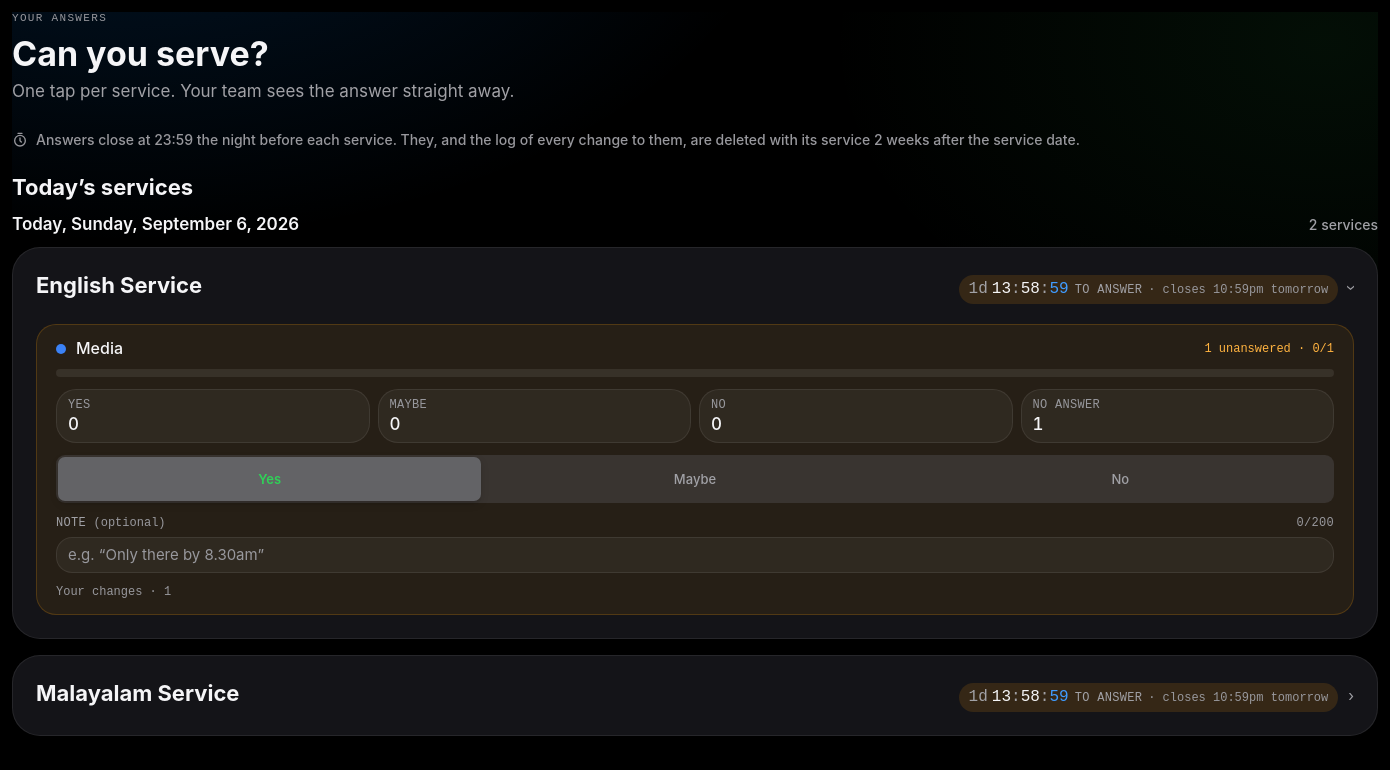
Test: the history of somebody’s answer › shows somebody their own changes once the church allows their own
The width and height of the screenshot is (1390, 770).
What coordinates should you click on to do the following:
click the button "Your changes · 1"
I would click on:
 (114, 592)
Its box is x1=56 y1=584 x2=171 y2=600.
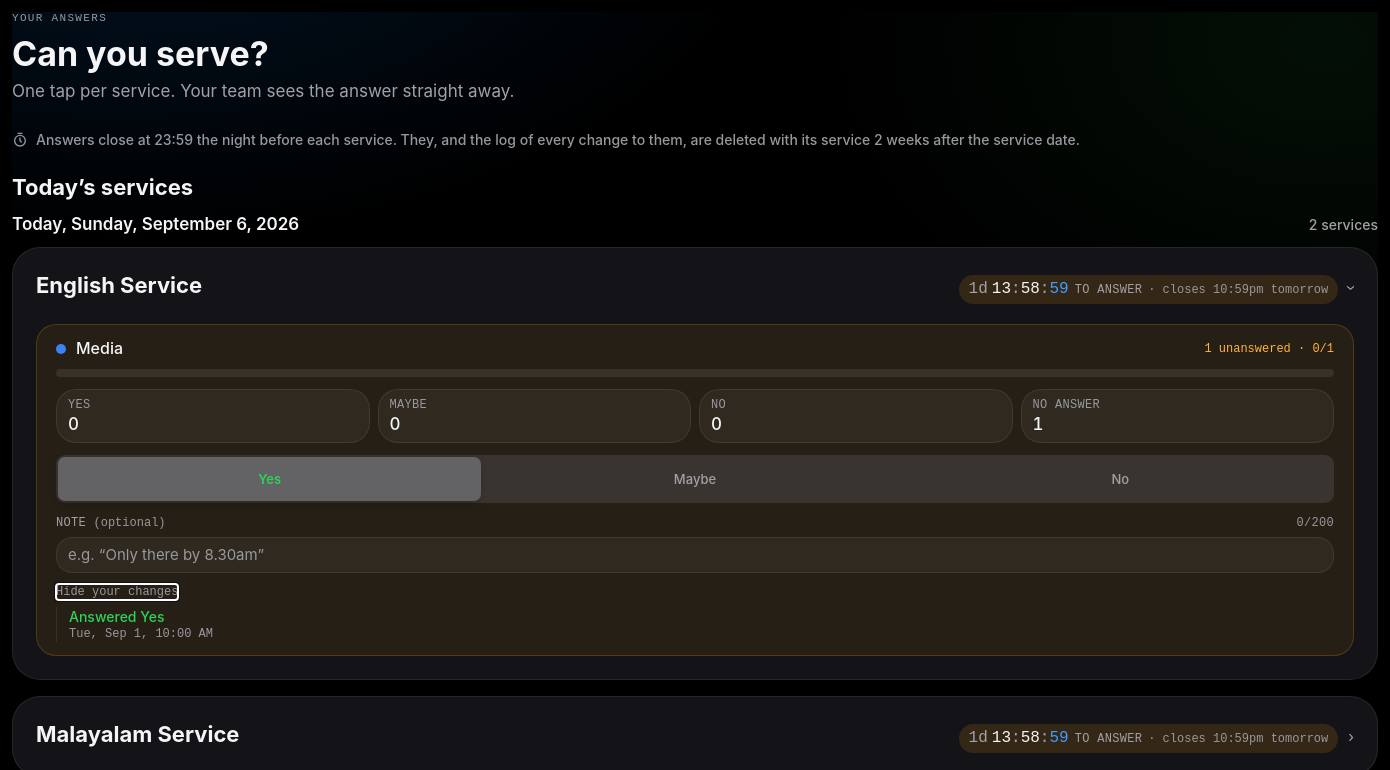
Expected: the list named "History of your answer" shows "Answered Yes", x1=69 y1=608 x2=164 y2=625
